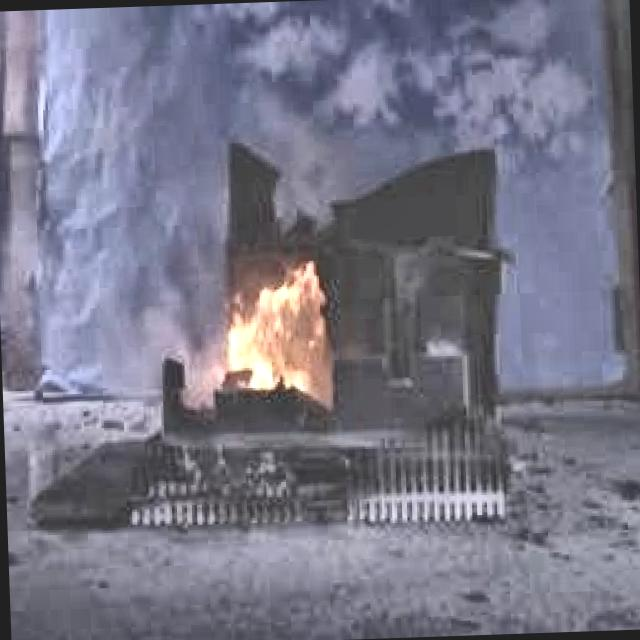fire: (216, 237, 356, 407)
